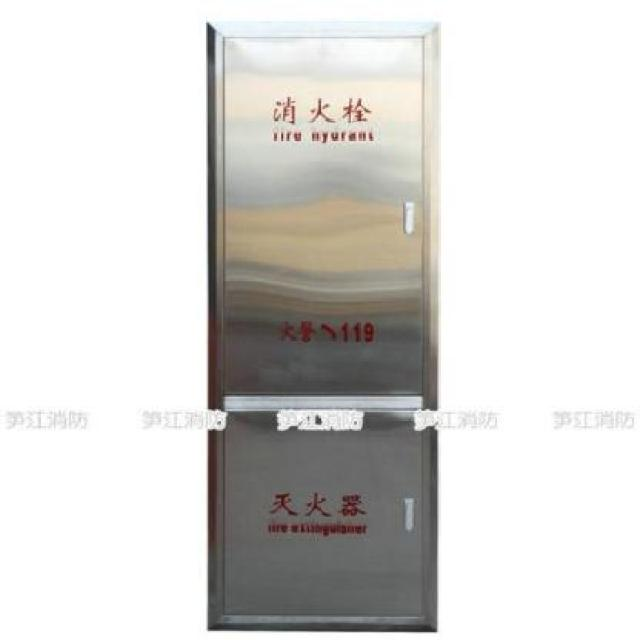firehydrant: (202, 14, 443, 637)
